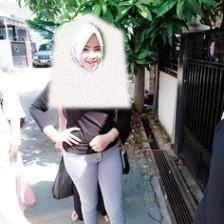Mukena: (46, 12, 131, 107)
